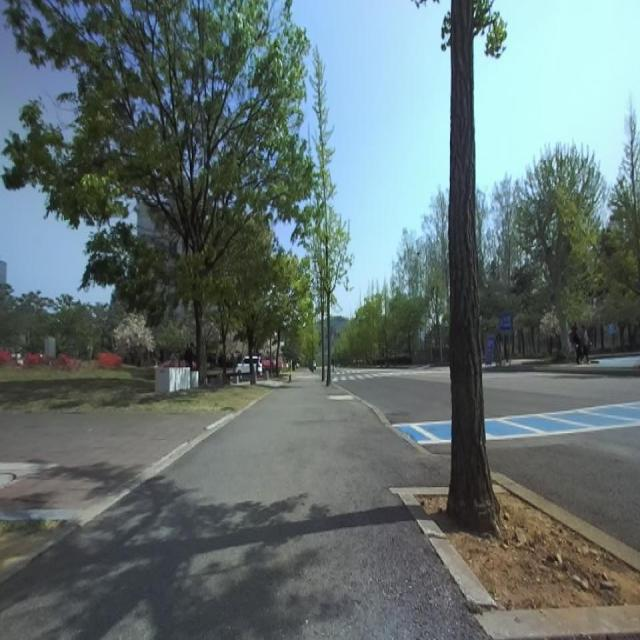sidewalk: (0, 375, 484, 639)
